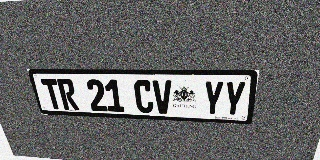1: (103, 79, 125, 112)
2: (85, 79, 108, 111)
C: (133, 80, 154, 113)
R: (56, 79, 79, 110)
T: (40, 79, 64, 110)
V: (152, 80, 172, 114)
Y: (222, 81, 246, 117), (203, 81, 224, 116)
